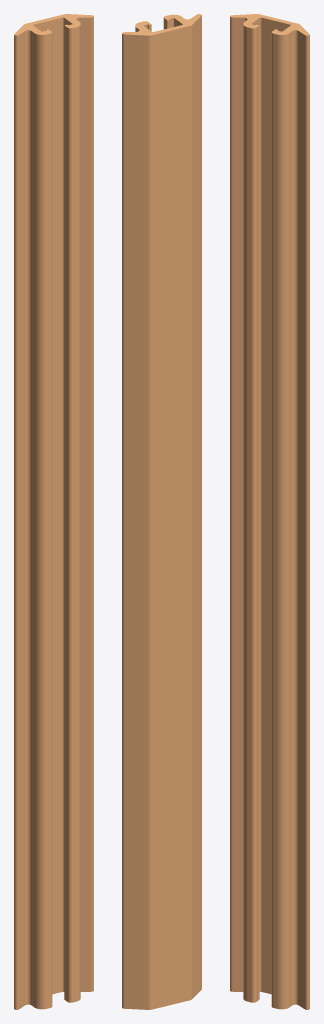
File: BallMill_Fasteners_Channel_Clamp_Bolting_[BM_OVFL_19].glb
3 renders of one model, left to right at view 1: azimuth 30°, elevation 25°; view 2: azimuth 210°, elevation 25°; view 3: azimuth 330°, elevation 25°, orthographic.
Parts seen in each view (by area): view 1: Node1; view 2: Node1; view 3: Node1.
Part boxes in pixels (box(x1,y1,x2,y2)): Node1: box(14, 14, 93, 1009); Node1: box(122, 14, 201, 1009); Node1: box(230, 14, 309, 1009).
Bounding box in the file's own units: 0.17 × 2 × 0.061.
